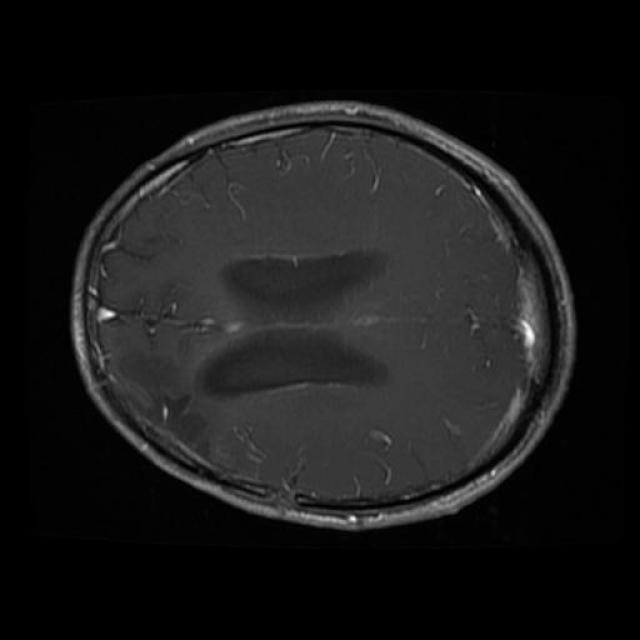Glioma: (120, 347, 211, 457)
